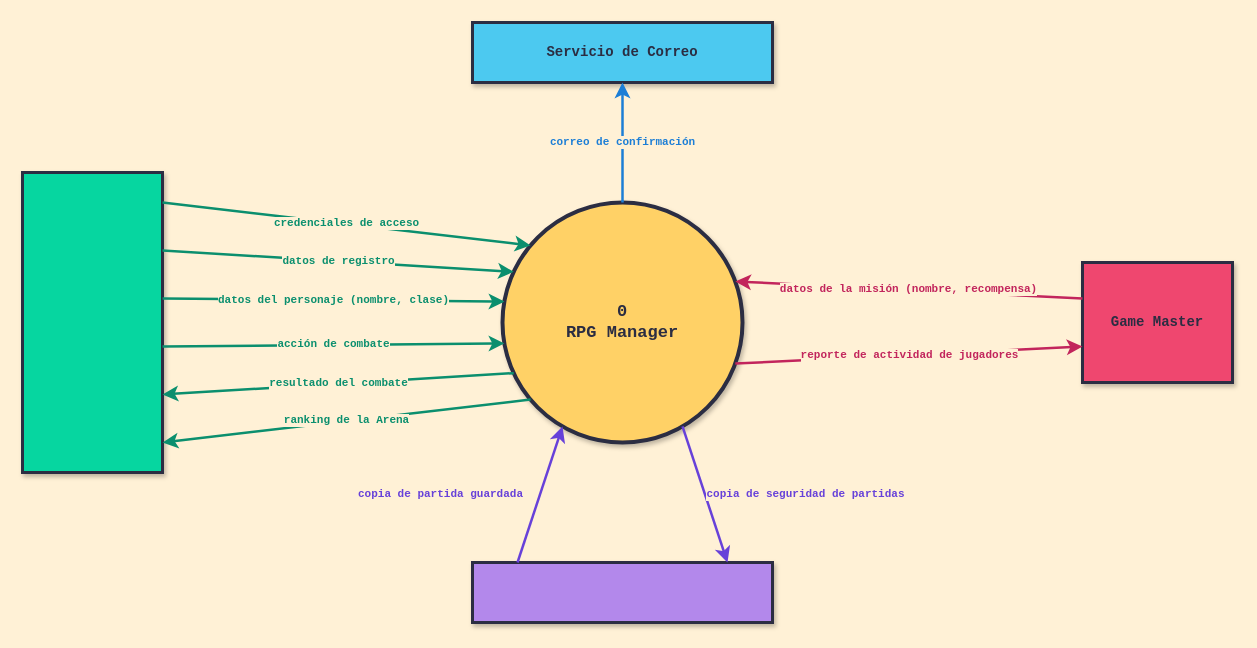
Image size: 1257x648. Some labels were removed from this diagram. The centre of each missing label's shape, as x and y in pixels:
"Jugador" belongs at [93,323].
"Servicio de Respaldo en la Nube" belongs at [623,593].
